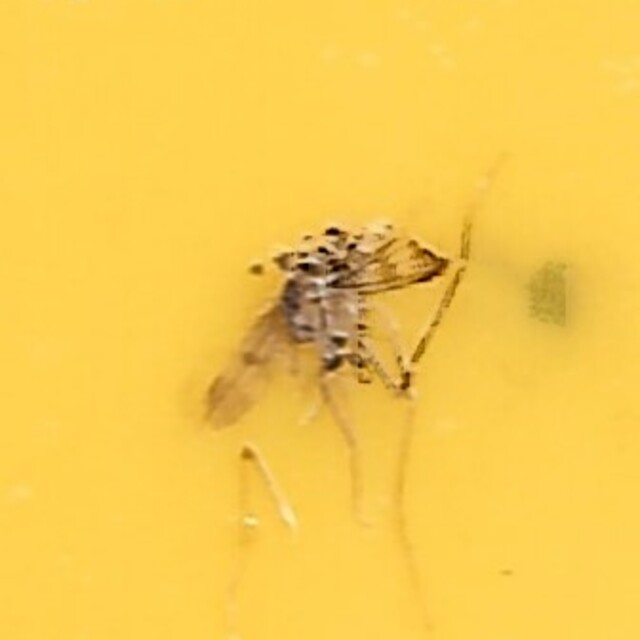Nematocera: (190, 211, 450, 429)
